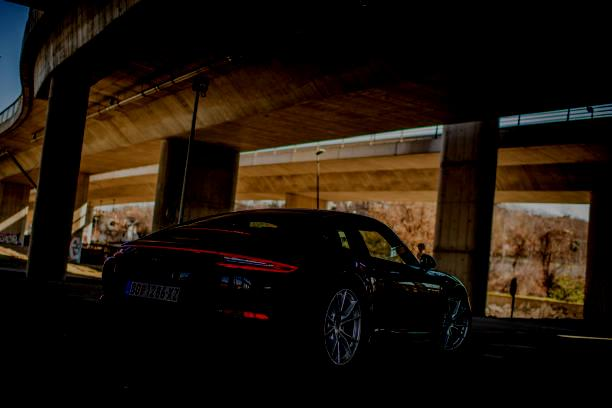porsche: (129, 247, 199, 262)
